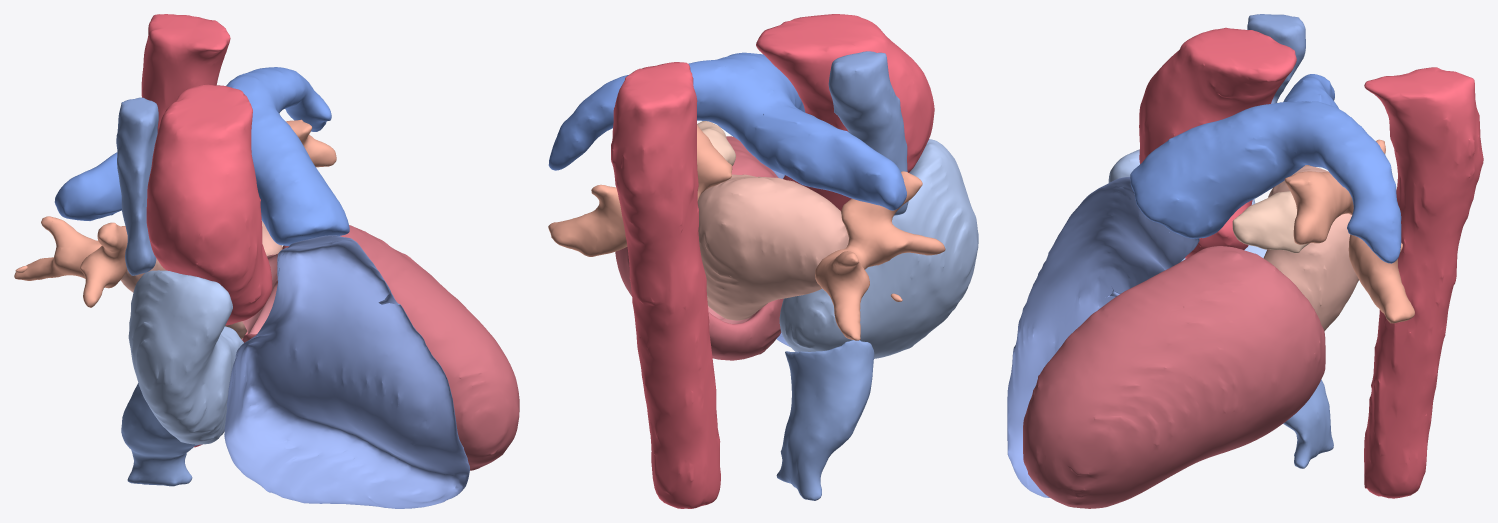
File: heart_ar.glb
The picture shows the model from 3 angles, left to right: view 1: azimuth 30°, elevation 25°; view 2: azimuth 150°, elevation 25°; view 3: azimuth 270°, elevation 25°; orthographic projection. The views are drawn at different scales.
Parts seen in each view (by area): view 1: heart_ventricle_right, aorta, heart_atrium_right, pulmonary_artery, heart_myocardium, pulmonary_vein, superior_vena_cava, inferior_vena_cava, heart_atrium_left, heart_ventricle_left; view 2: aorta, pulmonary_artery, heart_atrium_right, heart_atrium_left, pulmonary_vein, inferior_vena_cava, superior_vena_cava, heart_myocardium, atrial_appendage_left; view 3: heart_myocardium, aorta, pulmonary_artery, heart_ventricle_right, pulmonary_vein, heart_atrium_left, atrial_appendage_left, inferior_vena_cava, superior_vena_cava, heart_atrium_right.
Boxes of the visible parts, x1,y1,x2,y2 form: heart_ventricle_right: (224, 235, 469, 508); aorta: (141, 14, 272, 447); heart_atrium_right: (128, 270, 243, 444); pulmonary_artery: (54, 67, 349, 245); heart_myocardium: (241, 225, 519, 470); pulmonary_vein: (14, 119, 336, 307); superior_vena_cava: (116, 97, 158, 275); inferior_vena_cava: (121, 383, 198, 486); heart_atrium_left: (121, 220, 282, 339); heart_ventricle_left: (242, 253, 277, 334); aorta: (611, 14, 934, 508); pulmonary_artery: (548, 52, 906, 210); heart_atrium_right: (779, 139, 978, 358); heart_atrium_left: (697, 174, 848, 320); pulmonary_vein: (548, 124, 945, 340); inferior_vena_cava: (776, 340, 874, 500); superior_vena_cava: (828, 51, 908, 215); heart_myocardium: (615, 136, 783, 360); atrial_appendage_left: (697, 121, 735, 165); heart_myocardium: (1023, 246, 1325, 508); aorta: (1139, 27, 1483, 498); pulmonary_artery: (1130, 74, 1401, 263); heart_ventricle_right: (1007, 176, 1199, 497); pulmonary_vein: (1284, 139, 1414, 323); heart_atrium_left: (1263, 165, 1358, 330); atrial_appendage_left: (1232, 191, 1309, 253); inferior_vena_cava: (1283, 379, 1333, 468); superior_vena_cava: (1247, 14, 1305, 103); heart_atrium_right: (1108, 149, 1266, 261).
Bounding box in the file's own units: 0.1291 × 0.1366 × 0.1403.
